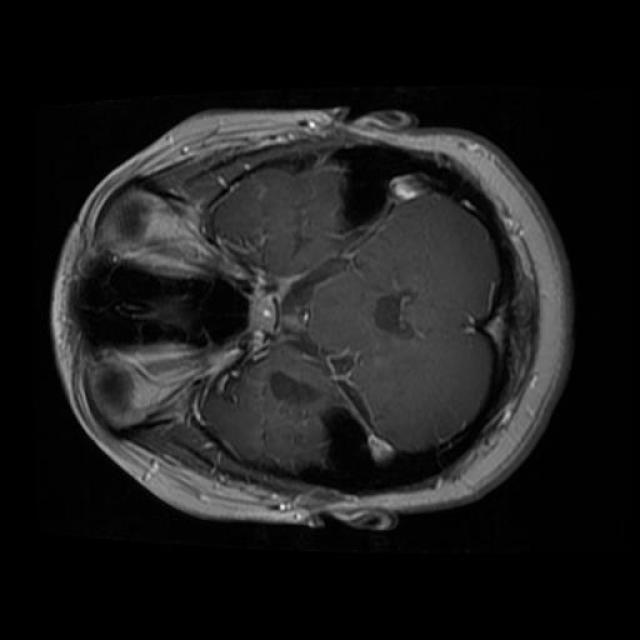Glioma: (261, 373, 326, 409)
